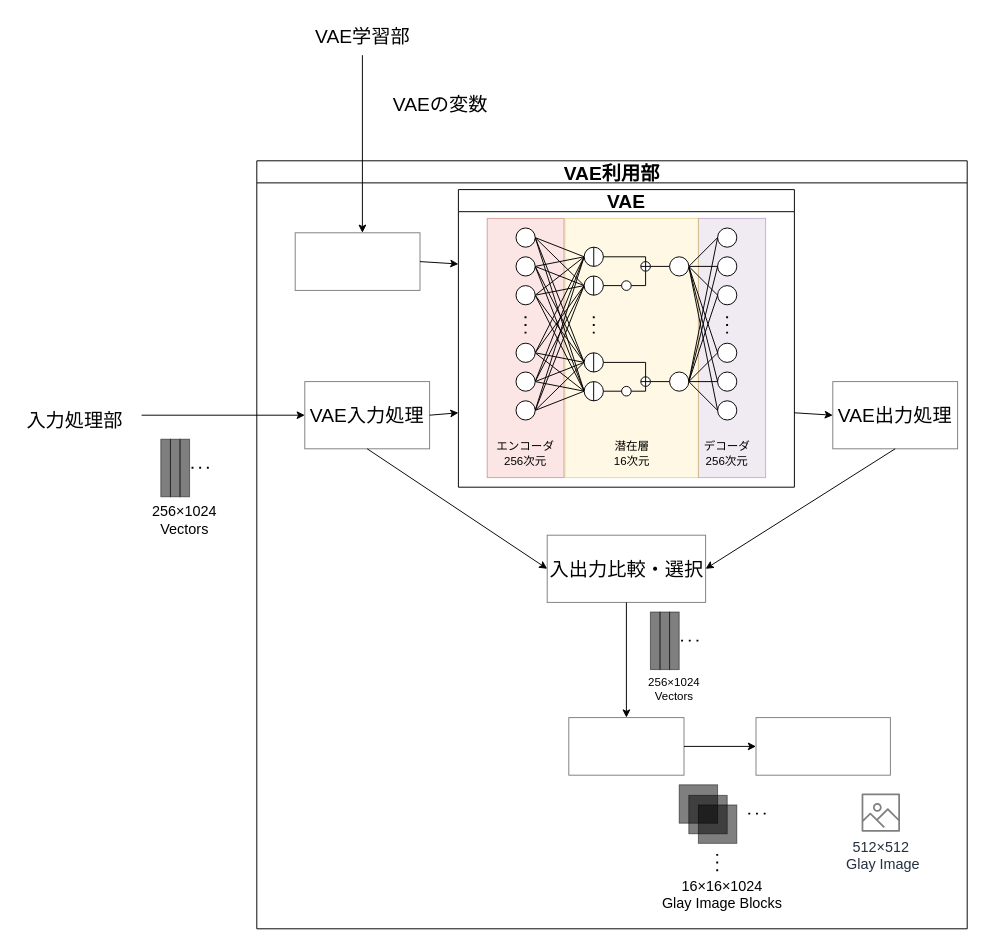
Some shapes in this 984 by 946 pixel diagram are drawn without their labels. Here are the shapes that lost their labels. From the top down, the centre of each, then its label:
At (357,261): "VAE利用管理".
At (626,746): "ブロック化".
At (822,746): "ブロック結合".
